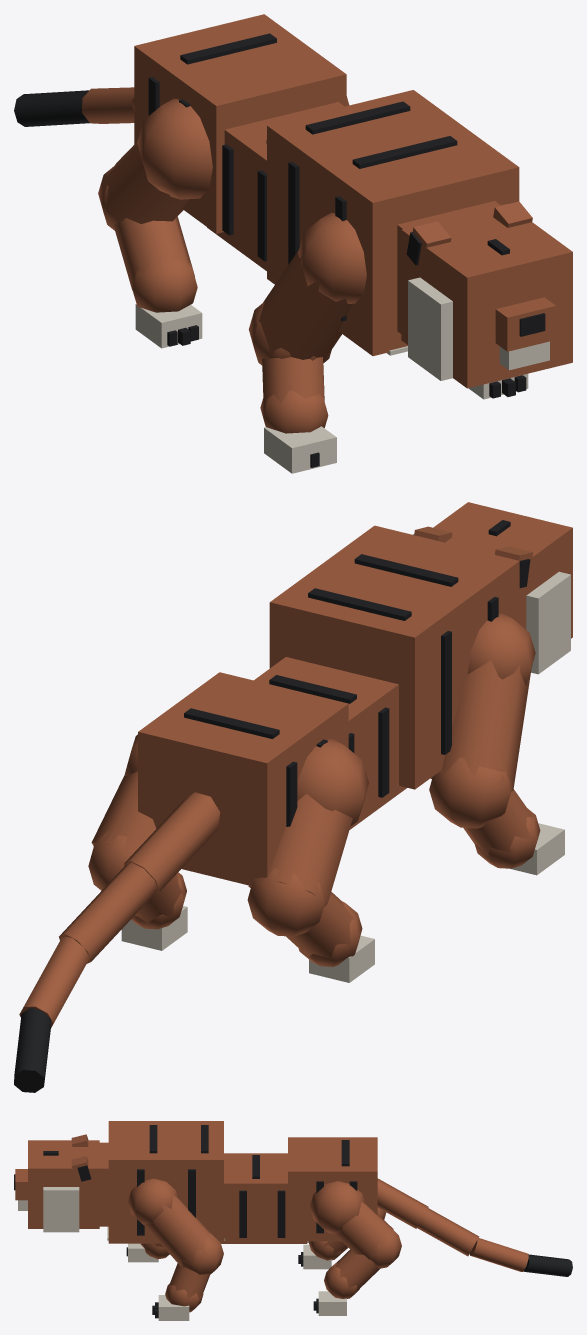
Rendered from indochinese-tiger-caught-mid.glb.
3 views of the same model, one above another, from view 1: azimuth 30°, elevation 25°; view 2: azimuth 150°, elevation 25°; view 3: azimuth 270°, elevation 25° (orthographic). The views are drawn at different scales.
Parts seen in each view (by area): view 1: Mesh_Chest, Mesh_Pelvis, Mesh_Head, Mesh_FL_Thigh, Mesh_Joint_RL_Hip, Mesh_Waist, Mesh_Joint_FL_Shoulder, Mesh_CheekL, Mesh_RL_Thigh, Mesh_RL_Shank, Mesh_Joint_RL_Ankle, Mesh_FL_Paw (+17 smaller); view 2: Mesh_Chest, Mesh_Pelvis, Mesh_FL_Thigh, Mesh_Waist, Mesh_Head, Mesh_RL_Thigh, Mesh_Tail_Seg1, Mesh_Tail_Seg2, Mesh_Joint_FL_Elbow, Mesh_Joint_RL_Hip, Mesh_CheekL, Mesh_Joint_RL_Knee (+20 smaller); view 3: Mesh_Chest, Mesh_Pelvis, Mesh_Waist, Mesh_Head, Mesh_FR_Thigh, Mesh_Joint_RR_Hip, Mesh_RR_Thigh, Mesh_CheekR, Mesh_Joint_FR_Shoulder, Mesh_Tail_Seg2, Mesh_Tail_Seg1, Mesh_Tail_Seg3 (+18 smaller).
Part boxes in pixels (left/top/right/bottom): Mesh_Chest: left=267, top=90, right=519, bottom=355; Mesh_Pelvis: left=134, top=14, right=346, bottom=233; Mesh_Head: left=401, top=204, right=572, bottom=388; Mesh_FL_Thigh: left=253, top=250, right=352, bottom=360; Mesh_Joint_RL_Hip: left=137, top=98, right=212, bottom=199; Mesh_Waist: left=207, top=102, right=344, bottom=270; Mesh_Joint_FL_Shoulder: left=298, top=212, right=366, bottom=303; Mesh_CheekL: left=408, top=277, right=452, bottom=380; Mesh_RL_Thigh: left=101, top=141, right=188, bottom=224; Mesh_RL_Shank: left=113, top=216, right=194, bottom=290; Mesh_Joint_RL_Ankle: left=132, top=257, right=197, bottom=312; Mesh_FL_Paw: left=264, top=426, right=336, bottom=473; Mesh_Chest: left=269, top=525, right=519, bottom=789; Mesh_Pelvis: left=138, top=672, right=348, bottom=885; Mesh_FL_Thigh: left=430, top=660, right=531, bottom=791; Mesh_Waist: left=254, top=657, right=407, bottom=829; Mesh_Head: left=433, top=502, right=572, bottom=638; Mesh_RL_Thigh: left=248, top=794, right=352, bottom=906; Mesh_Tail_Seg1: left=124, top=792, right=220, bottom=893; Mesh_Tail_Seg2: left=59, top=862, right=157, bottom=963; Mesh_Joint_FL_Elbow: left=429, top=757, right=512, bottom=828; Mesh_Joint_RL_Hip: left=297, top=738, right=368, bottom=826; Mesh_CheekL: left=526, top=571, right=570, bottom=674; Mesh_Joint_RL_Knee: left=247, top=868, right=324, bottom=936; Mesh_Chest: left=108, top=1121, right=223, bottom=1243; Mesh_Pelvis: left=288, top=1137, right=377, bottom=1241; Mesh_Waist: left=221, top=1153, right=307, bottom=1243; Mesh_Head: left=28, top=1140, right=99, bottom=1228; Mesh_FR_Thigh: left=143, top=1195, right=215, bottom=1266; Mesh_Joint_RR_Hip: left=310, top=1181, right=365, bottom=1233; Mesh_RR_Thigh: left=334, top=1201, right=394, bottom=1259; Mesh_CheekR: left=43, top=1187, right=79, bottom=1232; Mesh_Joint_FR_Shoulder: left=128, top=1178, right=177, bottom=1224; Mesh_Tail_Seg2: left=417, top=1208, right=479, bottom=1256; Mesh_Tail_Seg1: left=377, top=1178, right=428, bottom=1228; Mesh_Tail_Seg3: left=470, top=1238, right=528, bottom=1271.
Bounding box in the file's own units: 0.65 × 0.641 × 2.18.
